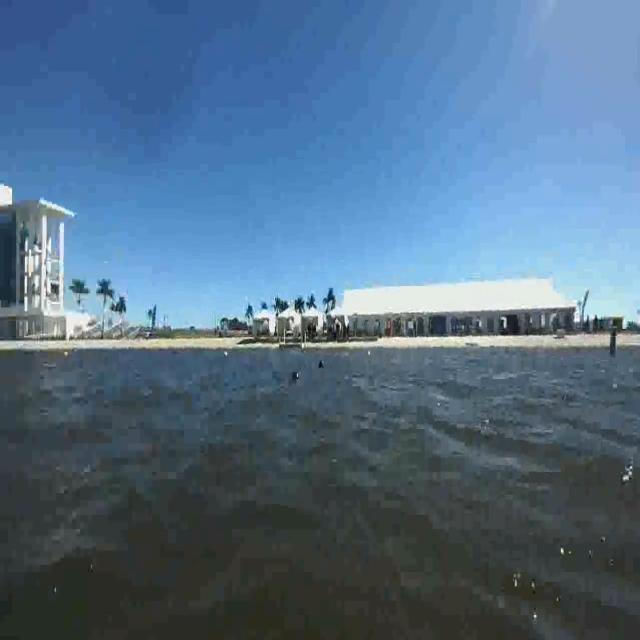black-buoy: (289, 370, 300, 383)
